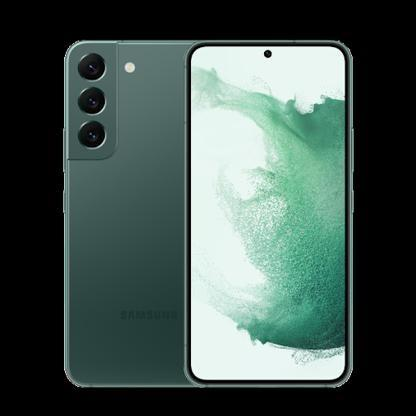not trash: (66, 36, 354, 392)
